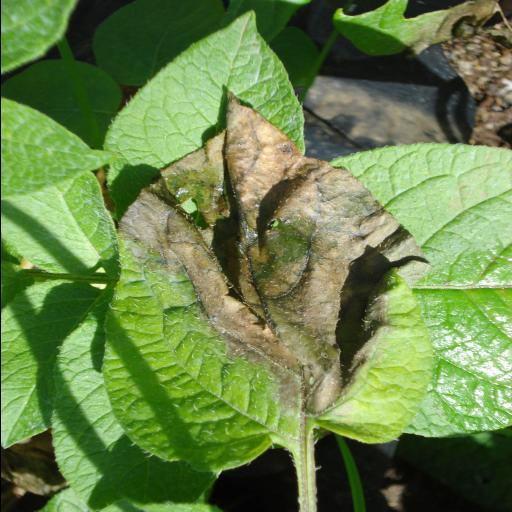disease_tomato: (92, 98, 436, 472)
